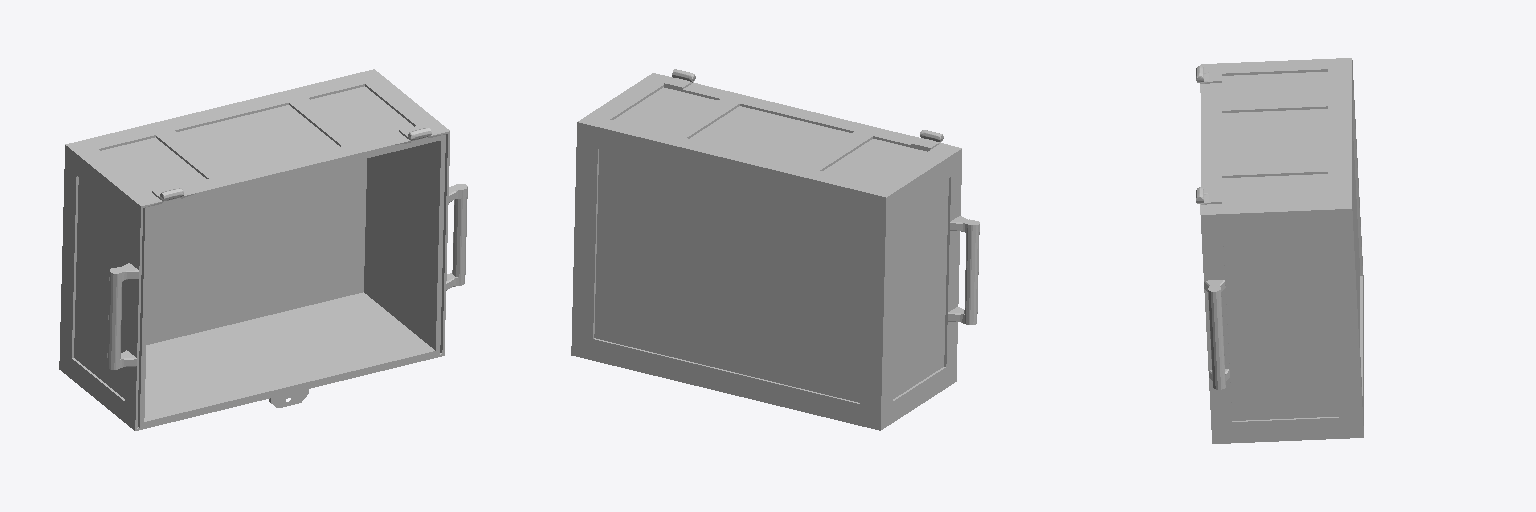
Rendered from fondCoffre.obj.
The picture shows the model from 3 angles: view 1: azimuth 30°, elevation 25°; view 2: azimuth 150°, elevation 25°; view 3: azimuth 270°, elevation 25°; orthographic projection.
Visible parts, largest first — view 1: chest.001, framebottom.001; view 2: chest.001, framebottom.001; view 3: chest.001, framebottom.001.
Part boxes in pixels (left/top/right/bottom): chest.001: left=74, top=86, right=445, bottom=427; framebottom.001: left=59, top=69, right=467, bottom=430; chest.001: left=594, top=87, right=948, bottom=402; framebottom.001: left=571, top=69, right=979, bottom=430; chest.001: left=1222, top=72, right=1359, bottom=420; framebottom.001: left=1196, top=58, right=1363, bottom=443.
Bounding box in the file's own units: 3.32 × 2.23 × 1.36.